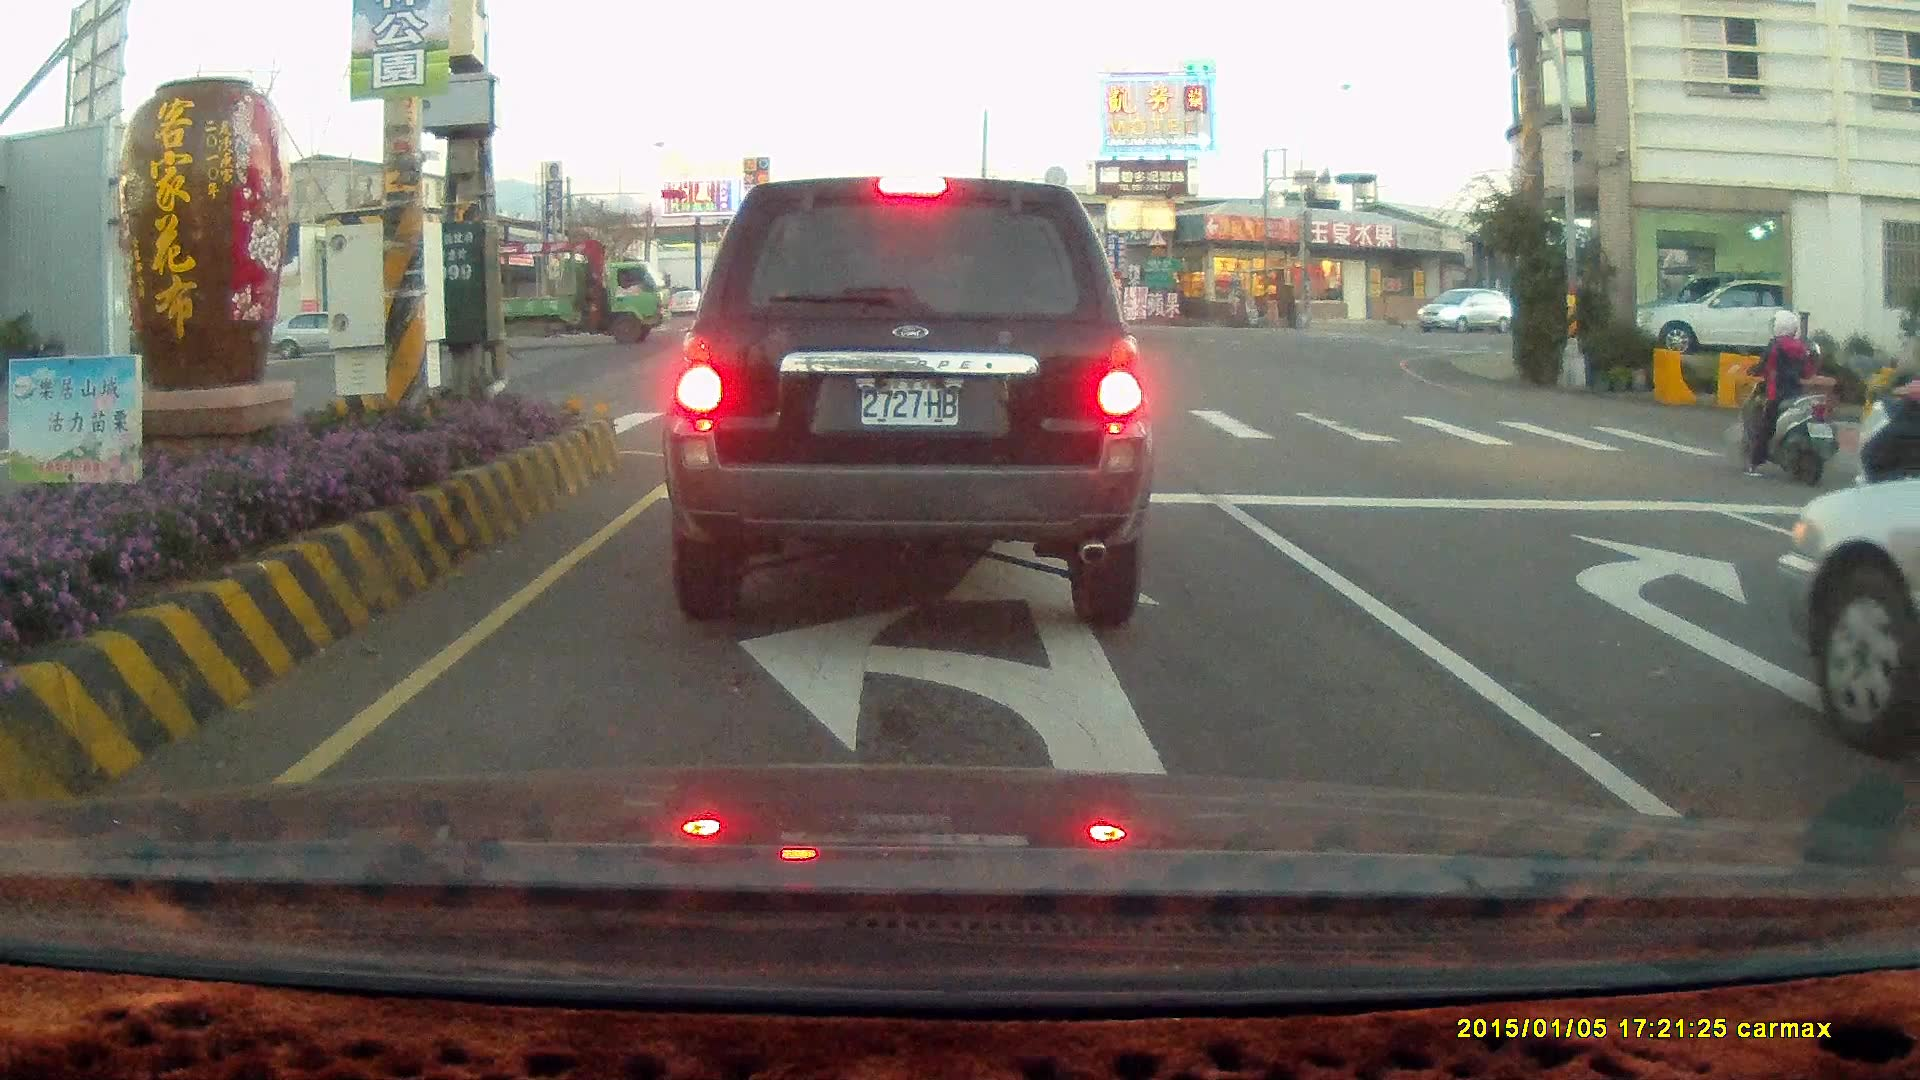rider: (1727, 305, 1834, 484), (1852, 355, 1920, 509)
vehicle: (660, 173, 1155, 630), (1780, 465, 1920, 775), (1628, 275, 1835, 355), (500, 254, 674, 347), (1642, 275, 1784, 356), (1896, 493, 1920, 836), (1416, 289, 1515, 338)
